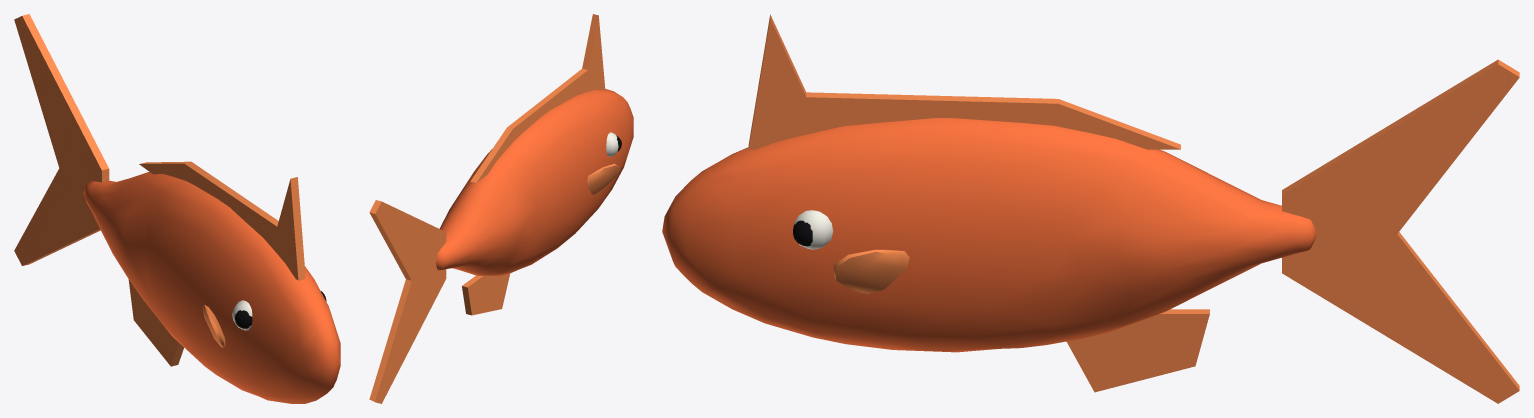
The model's file is anthias.glb.
3 views of the same model, side by side, from view 1: azimuth 30°, elevation 25°; view 2: azimuth 150°, elevation 25°; view 3: azimuth 270°, elevation 25° (orthographic). The views are drawn at different scales.
Parts seen in each view (by area): view 1: body, tail, dorsal, anal, pectoral_mx; view 2: body, tail, dorsal, anal, pectoral_mx, eye_mx; view 3: body, tail, dorsal, anal, pectoral, eye.
Boxes of the visible parts, x1=… form: body: x1=83, y1=172, x2=340, y2=403; tail: x1=14, y1=14, x2=109, y2=265; dorsal: x1=139, y1=161, x2=305, y2=280; anal: x1=128, y1=279, x2=183, y2=366; pectoral_mx: x1=202, y1=305, x2=225, y2=347; body: x1=435, y1=88, x2=633, y2=275; tail: x1=369, y1=200, x2=446, y2=403; dorsal: x1=470, y1=14, x2=605, y2=182; anal: x1=462, y1=273, x2=510, y2=315; pectoral_mx: x1=587, y1=163, x2=620, y2=194; eye_mx: x1=606, y1=132, x2=618, y2=156; body: x1=662, y1=118, x2=1316, y2=352; tail: x1=1282, y1=59, x2=1519, y2=403; dorsal: x1=748, y1=14, x2=1180, y2=149; anal: x1=1066, y1=309, x2=1209, y2=392; pectoral: x1=833, y1=249, x2=909, y2=293; eye: x1=794, y1=210, x2=833, y2=249.
Bounding box in the file's own units: 0.2381 × 0.5896 × 1.19.
